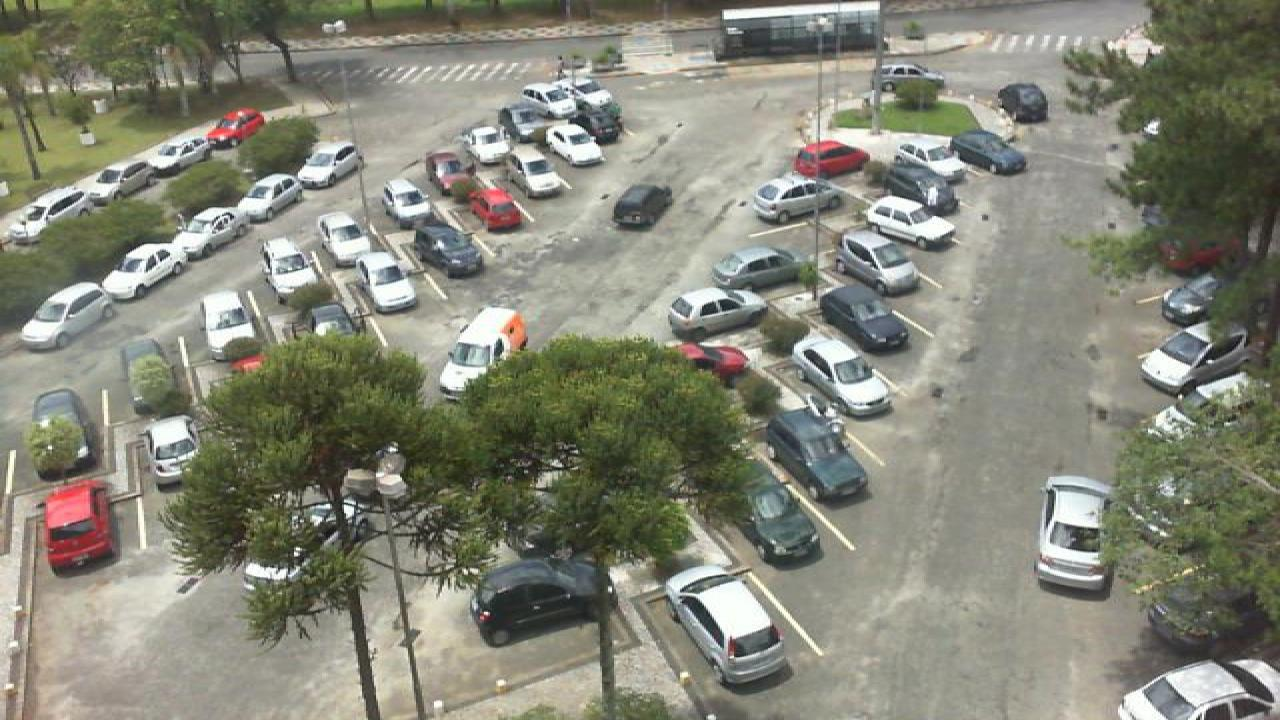Car: (662, 564, 790, 692), (468, 553, 606, 647), (762, 407, 868, 504), (1116, 658, 1280, 720), (1034, 474, 1114, 595), (730, 461, 822, 566), (792, 334, 894, 418), (438, 306, 528, 400), (1140, 322, 1252, 396), (36, 478, 118, 574), (814, 282, 910, 354), (18, 282, 116, 349), (26, 388, 92, 479), (102, 244, 200, 303), (834, 232, 920, 298), (862, 195, 958, 252), (662, 288, 766, 339), (140, 414, 204, 488), (708, 244, 804, 290), (200, 292, 258, 364), (752, 176, 840, 222), (886, 161, 960, 215), (354, 250, 418, 312), (4, 187, 88, 232), (1162, 270, 1228, 326), (948, 128, 1028, 174), (676, 340, 754, 387), (894, 136, 970, 184), (172, 206, 246, 255), (420, 223, 482, 278), (260, 237, 316, 297), (792, 138, 868, 180), (292, 142, 360, 188), (232, 173, 300, 217), (612, 182, 672, 231), (514, 146, 568, 198), (544, 122, 604, 168), (86, 160, 154, 200), (468, 187, 526, 231), (318, 211, 368, 261), (518, 79, 584, 116), (382, 179, 430, 228), (146, 138, 210, 174), (496, 104, 552, 145), (426, 150, 478, 194), (206, 108, 266, 145), (868, 62, 946, 89), (998, 82, 1048, 124), (578, 101, 622, 143), (464, 125, 510, 165), (568, 78, 620, 109)
